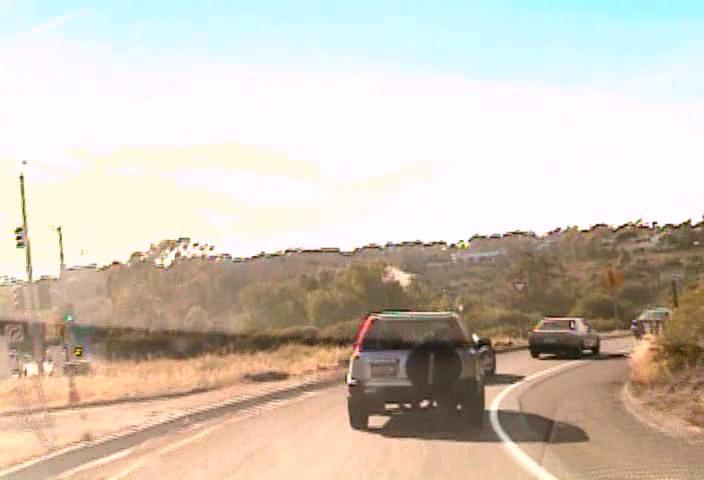yield: (509, 280, 527, 294)
